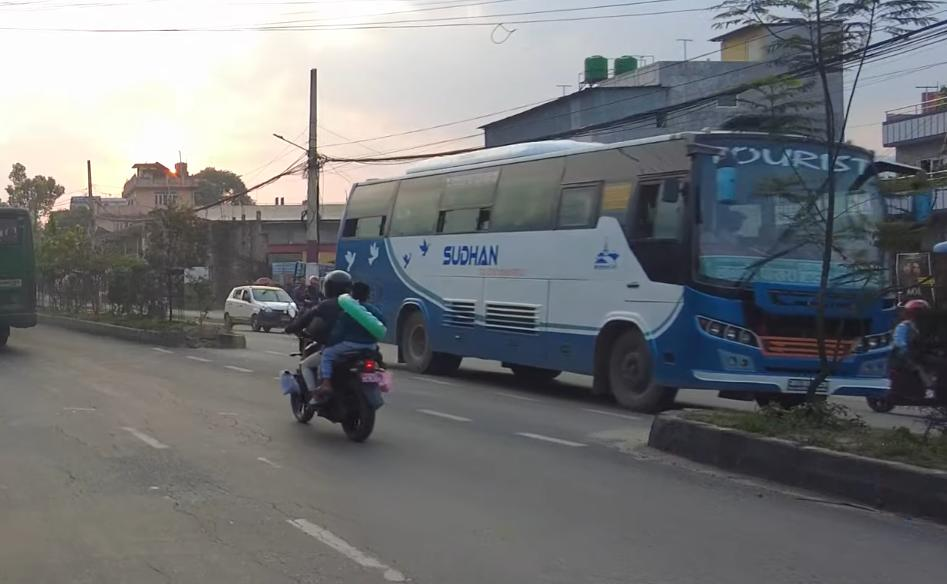bus: (332, 119, 935, 428)
